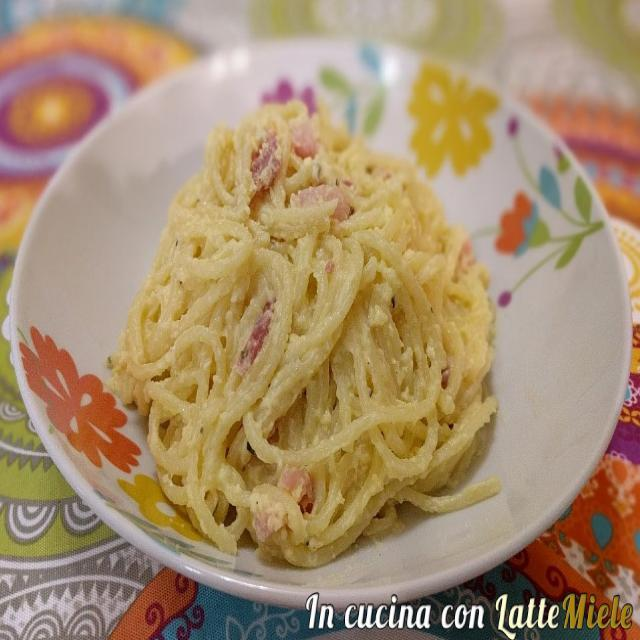Pasta with carbonara sauce: (108, 78, 568, 542)
